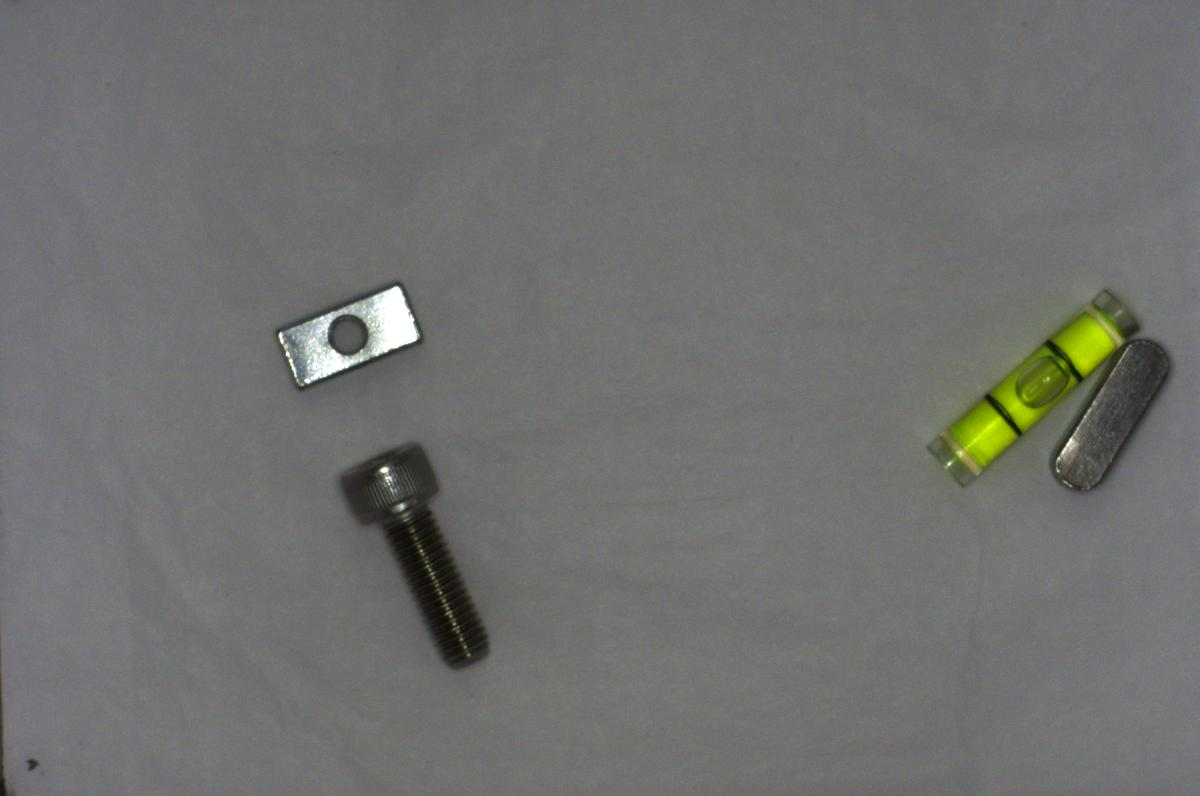Hexagon screw: (327, 434, 498, 679)
Horizontal bubble: (928, 286, 1146, 490)
Keybar: (1045, 341, 1178, 494)
Rectangular nut: (267, 280, 427, 395)
